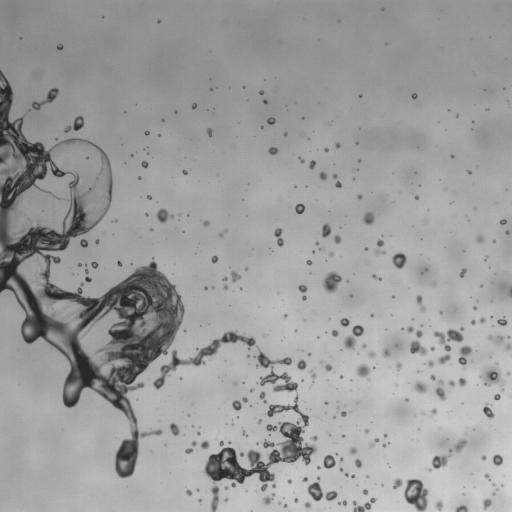droplet: (255, 350, 298, 391), (433, 327, 463, 364), (404, 479, 428, 511), (307, 477, 337, 501), (479, 363, 504, 391), (322, 271, 341, 292), (410, 340, 427, 356), (156, 208, 173, 222), (392, 253, 406, 268), (356, 364, 369, 380), (232, 397, 247, 410), (414, 380, 427, 393), (323, 454, 335, 468), (488, 334, 504, 344), (483, 404, 494, 418), (375, 239, 385, 254), (363, 212, 374, 225), (262, 493, 274, 504), (321, 224, 331, 237), (435, 387, 445, 400), (230, 270, 240, 282), (492, 454, 502, 465), (170, 423, 179, 435), (295, 203, 305, 213), (393, 478, 402, 488), (298, 284, 307, 293), (297, 360, 306, 369), (200, 440, 209, 449), (497, 317, 507, 325), (483, 499, 491, 509), (435, 501, 443, 511), (259, 391, 266, 402), (340, 318, 349, 326), (382, 348, 390, 357), (319, 172, 327, 180), (458, 378, 466, 386), (268, 147, 277, 154), (334, 234, 341, 243), (459, 268, 466, 277), (267, 117, 275, 124), (476, 235, 483, 243), (80, 239, 87, 247), (415, 330, 422, 338), (368, 350, 375, 358), (349, 447, 357, 454), (309, 160, 315, 169), (355, 459, 361, 468), (406, 326, 413, 333), (426, 360, 433, 367), (325, 364, 332, 371), (141, 161, 148, 167), (211, 256, 218, 262), (331, 330, 338, 336), (431, 408, 437, 415), (396, 362, 401, 370), (335, 181, 341, 187), (91, 262, 97, 268), (479, 317, 485, 323), (505, 343, 511, 349), (448, 380, 454, 386), (186, 489, 192, 495), (304, 502, 310, 508), (207, 128, 211, 136), (299, 157, 304, 163), (500, 219, 506, 224), (203, 221, 209, 226), (494, 394, 500, 399), (485, 474, 490, 480), (57, 44, 62, 49), (412, 93, 417, 98), (306, 260, 311, 265), (430, 375, 435, 380), (341, 411, 346, 416), (362, 489, 367, 494), (471, 319, 475, 325), (242, 430, 246, 436), (311, 436, 317, 440), (192, 103, 196, 108), (182, 170, 187, 174), (357, 194, 361, 199), (117, 261, 121, 266), (302, 295, 306, 300), (438, 380, 443, 384), (364, 429, 369, 433), (374, 438, 379, 442), (481, 456, 486, 460), (302, 477, 307, 481), (287, 479, 292, 483), (259, 90, 263, 94), (145, 131, 149, 135), (335, 143, 339, 147), (324, 147, 328, 151), (333, 174, 337, 178), (147, 195, 151, 199), (505, 230, 509, 234), (219, 233, 223, 237), (95, 239, 99, 243), (329, 252, 333, 256), (223, 277, 227, 281), (223, 285, 227, 289), (383, 433, 387, 437), (369, 443, 373, 447), (294, 498, 298, 502), (263, 100, 267, 103), (362, 344, 365, 348), (431, 346, 434, 350), (258, 419, 261, 423), (340, 458, 343, 462), (284, 132, 287, 135), (468, 170, 471, 173), (415, 196, 418, 199), (315, 242, 318, 245), (78, 263, 81, 266), (473, 306, 476, 309), (250, 388, 253, 391), (405, 398, 408, 401), (339, 468, 342, 471), (345, 473, 348, 476), (351, 474, 354, 477), (492, 491, 495, 494), (284, 504, 287, 507), (359, 94, 361, 97), (86, 156, 88, 159), (138, 176, 140, 179), (150, 228, 152, 231), (204, 287, 207, 289), (284, 314, 286, 317), (507, 372, 509, 375), (340, 375, 342, 378), (234, 382, 236, 385), (197, 432, 200, 434), (342, 434, 344, 437), (429, 468, 431, 471), (225, 486, 227, 489), (225, 498, 227, 501), (174, 111, 176, 113), (131, 154, 133, 156), (451, 155, 453, 157), (493, 240, 495, 242), (365, 247, 367, 249), (485, 257, 487, 259), (370, 314, 372, 316), (112, 318, 114, 320), (308, 353, 310, 355), (247, 354, 249, 356), (489, 354, 491, 356), (325, 402, 327, 404), (317, 466, 319, 468), (199, 499, 201, 501)
ligament: (0, 70, 184, 478), (203, 395, 316, 511), (153, 331, 255, 388), (432, 438, 466, 468), (32, 88, 58, 110), (344, 325, 363, 349), (352, 497, 376, 511), (64, 116, 84, 132), (458, 345, 471, 366), (274, 228, 283, 246), (416, 295, 425, 311), (185, 441, 196, 453), (85, 269, 91, 282), (454, 505, 467, 511), (310, 369, 316, 380), (372, 274, 381, 280), (337, 500, 346, 505), (508, 286, 511, 297), (382, 443, 388, 447)
